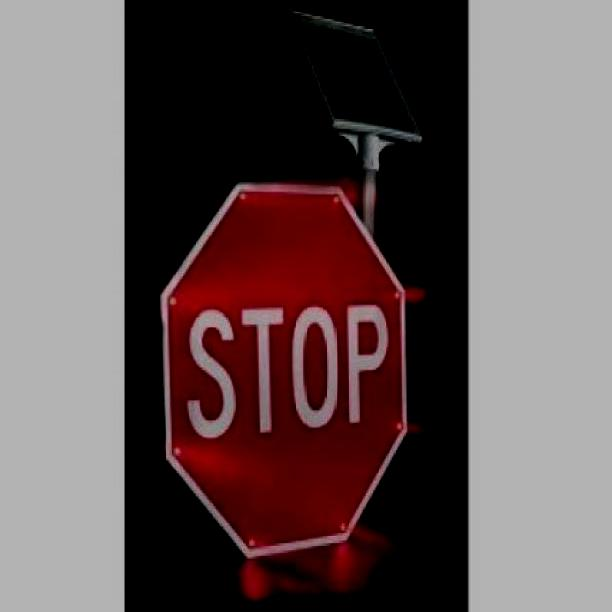stop_sign: (157, 181, 410, 556)
